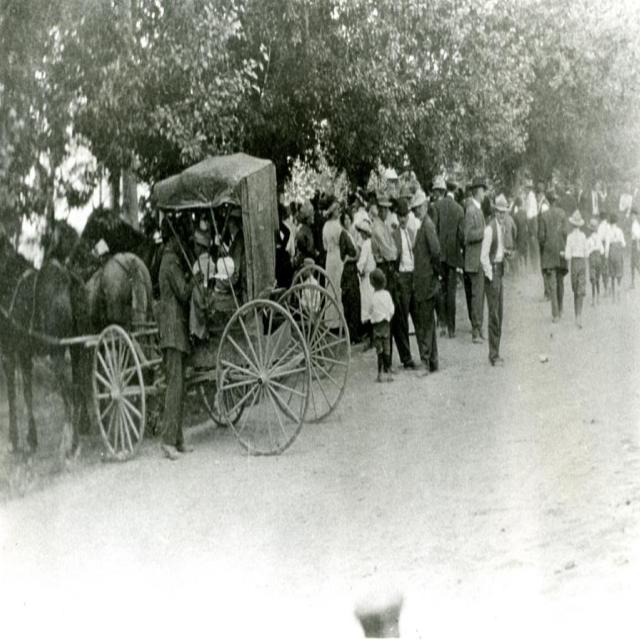Person: (159, 169, 640, 460)
